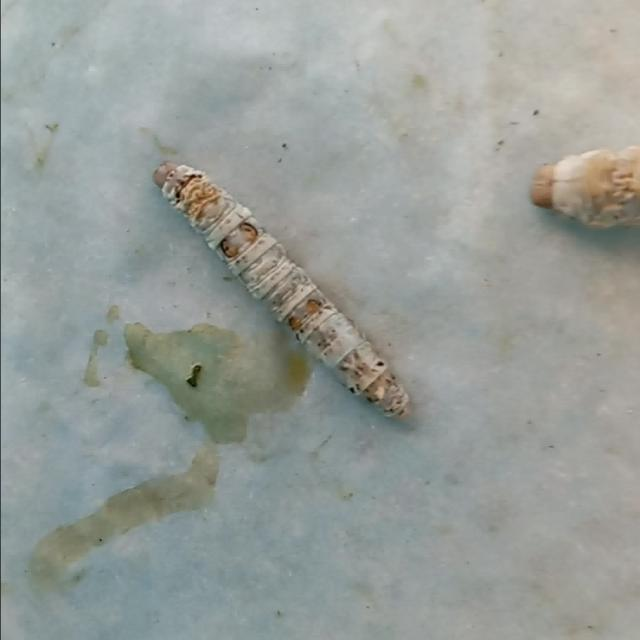Grasserie: (141, 146, 428, 430)
